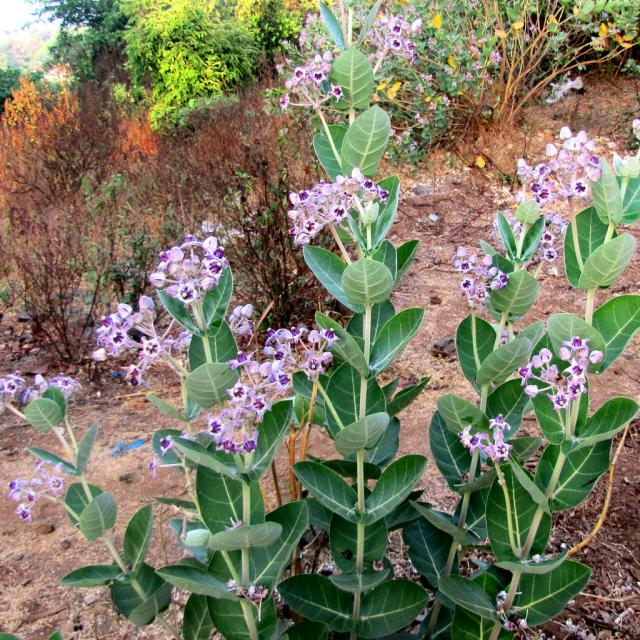Poisonous-Calatropis: (8, 328, 640, 637), (283, 12, 430, 329), (460, 126, 640, 318), (140, 228, 255, 326)
